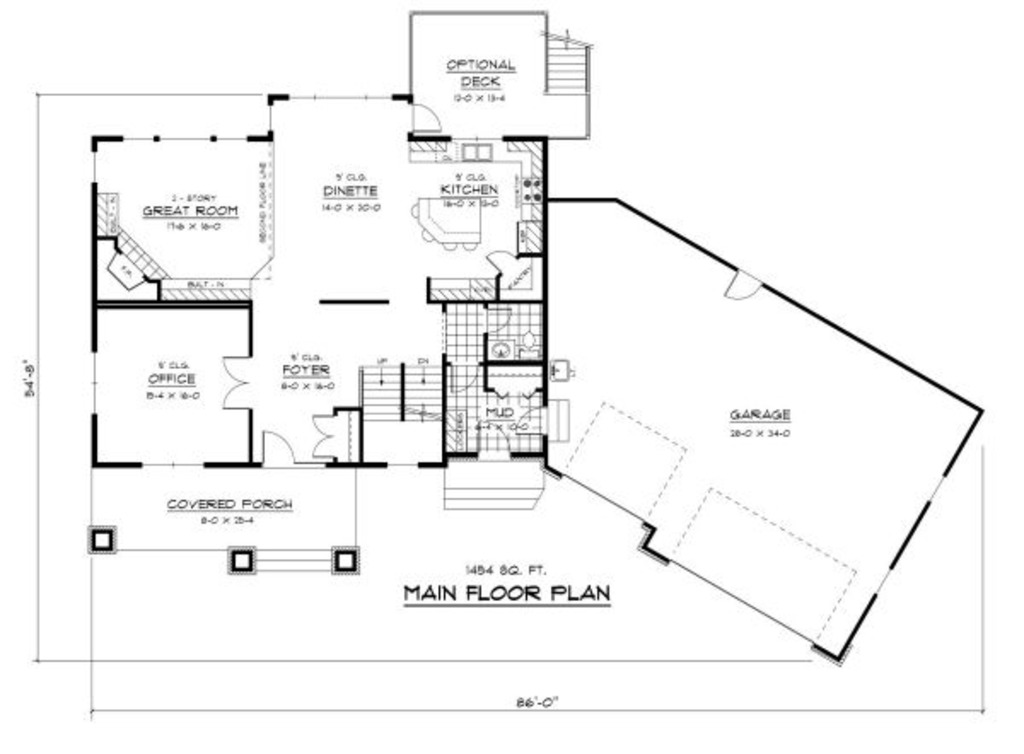door: (217, 354, 253, 410), (722, 267, 764, 306), (259, 427, 298, 467), (311, 411, 338, 459), (410, 100, 445, 136), (483, 245, 516, 272)
kitchen_bar: (408, 193, 486, 251)
large_sink: (516, 331, 544, 362)
stairs: (359, 353, 444, 468), (539, 26, 595, 107)
twin_sink: (460, 139, 496, 163)
windows: (120, 130, 250, 147), (281, 91, 394, 103), (87, 347, 105, 415), (137, 459, 207, 472)
